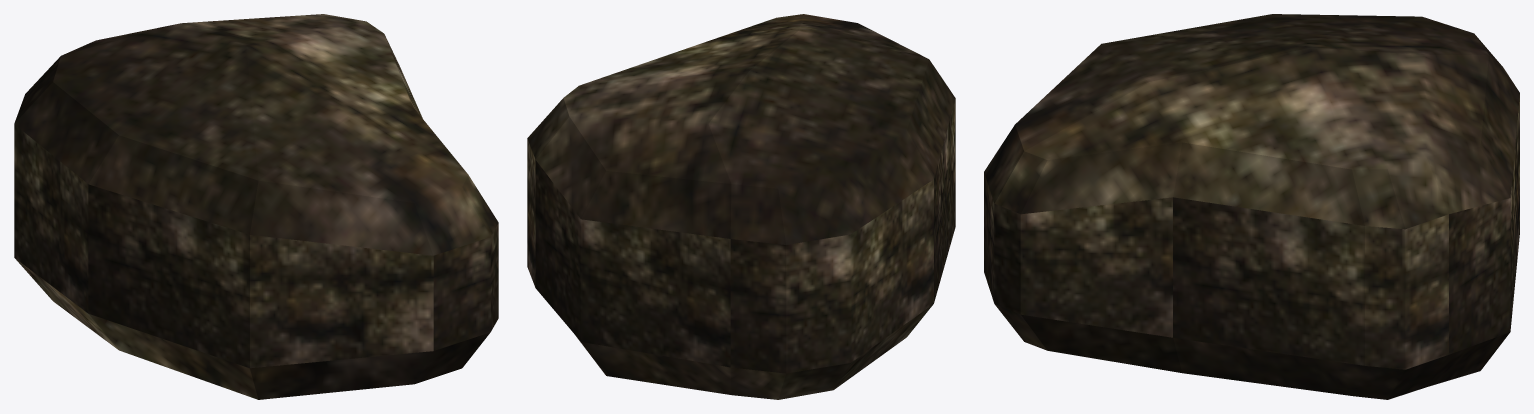
Rendered from dungeon_wall_broken_stone01.dae.
3 renders of one model, left to right at view 1: azimuth 30°, elevation 25°; view 2: azimuth 150°, elevation 25°; view 3: azimuth 270°, elevation 25°, orthographic. The views are drawn at different scales.
Visible parts, largest first — view 1: dungeon_wall_broken_stone01; view 2: dungeon_wall_broken_stone01; view 3: dungeon_wall_broken_stone01.
Boxes of the visible parts, x1=… form: dungeon_wall_broken_stone01: x1=14, y1=14, x2=498, y2=399; dungeon_wall_broken_stone01: x1=527, y1=14, x2=955, y2=399; dungeon_wall_broken_stone01: x1=984, y1=14, x2=1519, y2=399.
Bounding box in the file's own units: 0.3093 × 0.2333 × 0.3773.
